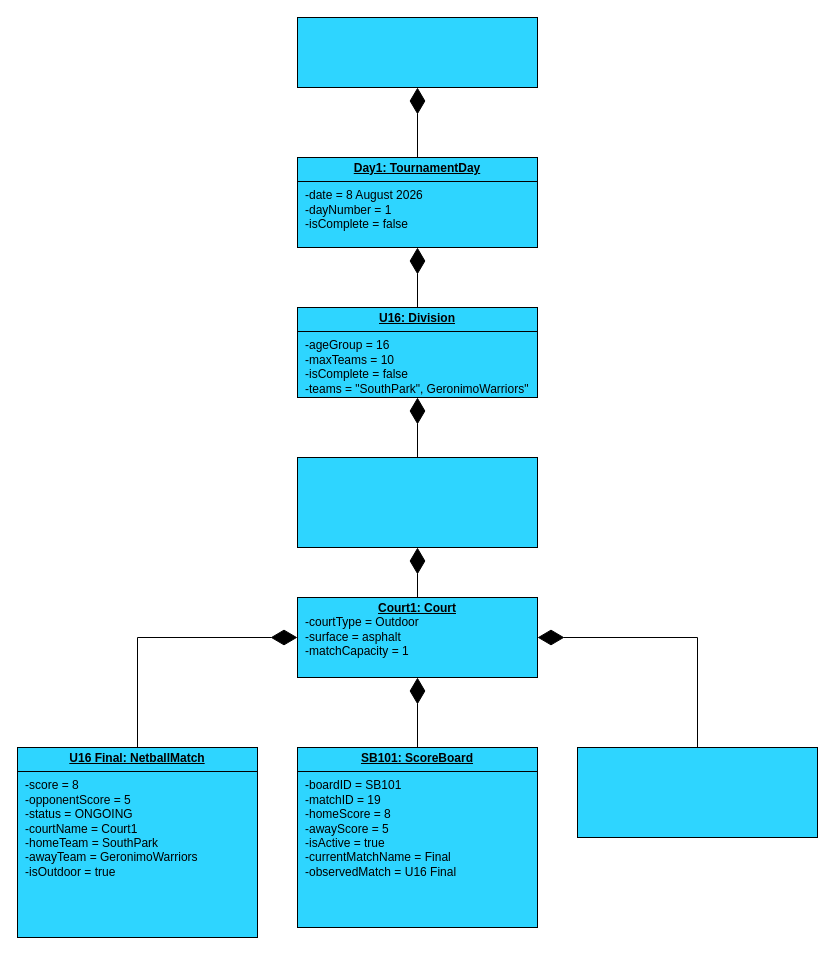
The diagram is 835 pixels wide and 955 high, and some of its shapes have lost their labels. Here are the shapes that lost their labels. From the top down, the box of each, then its label:
(296, 16, 538, 88): CItyNeballChampionship: Tournament -year = 2026 -venue = Tembisa Sports Complex
(296, 456, 538, 548): ZoneA: Zone -area = Upper -isOutdoor = true -courtCount = 2
(576, 746, 818, 838): TeamAWarmUp: TeamWarmUp -teamName = TeamA -duration = 10 -isActive = true
